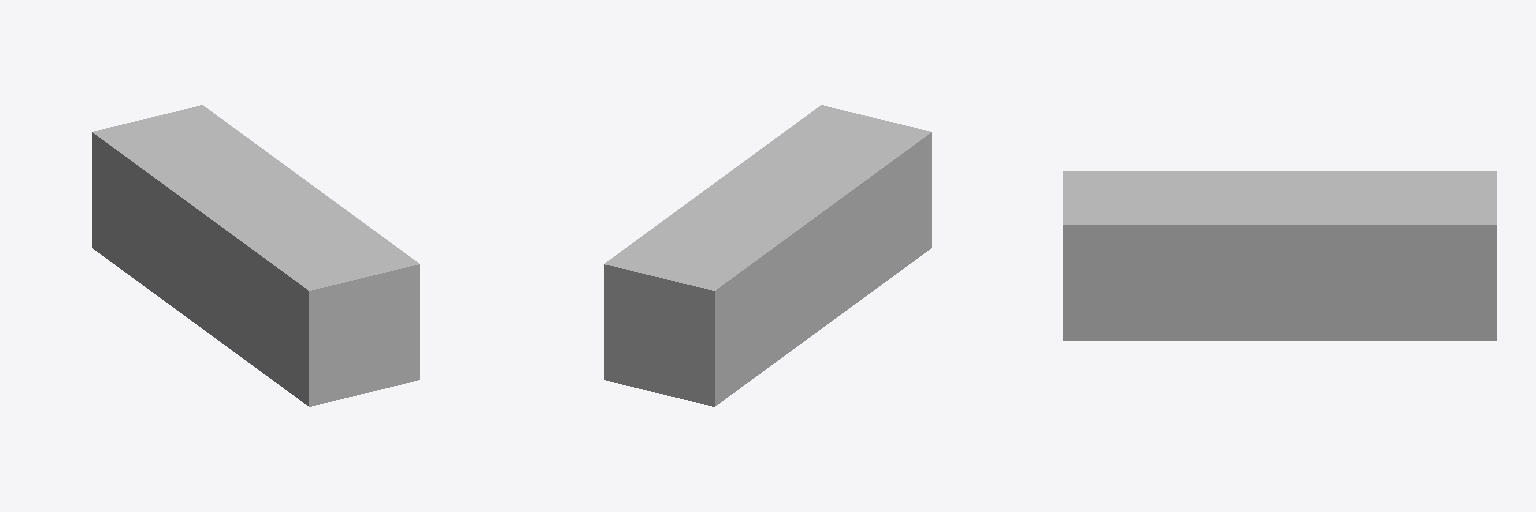
File: Junction Walls R.obj
3 renders of one model, left to right at view 1: azimuth 30°, elevation 25°; view 2: azimuth 150°, elevation 25°; view 3: azimuth 270°, elevation 25°, orthographic.
Size of the model in its own units: 10 by 10 by 34.